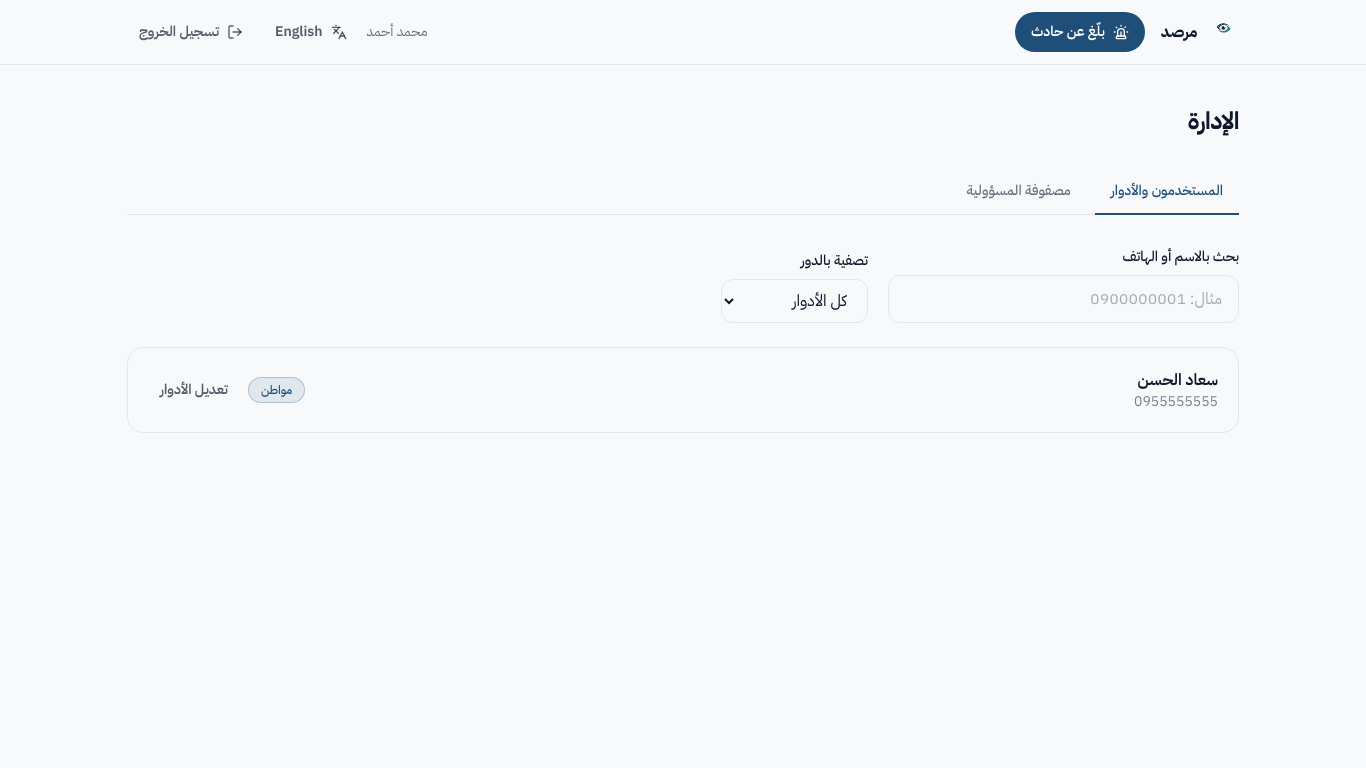
Test: users and roles › hides the super admin checkbox from a plain admin
Step 1. Click the button "تعديل الأدوار" → (194, 390), box [148,372,240,408]
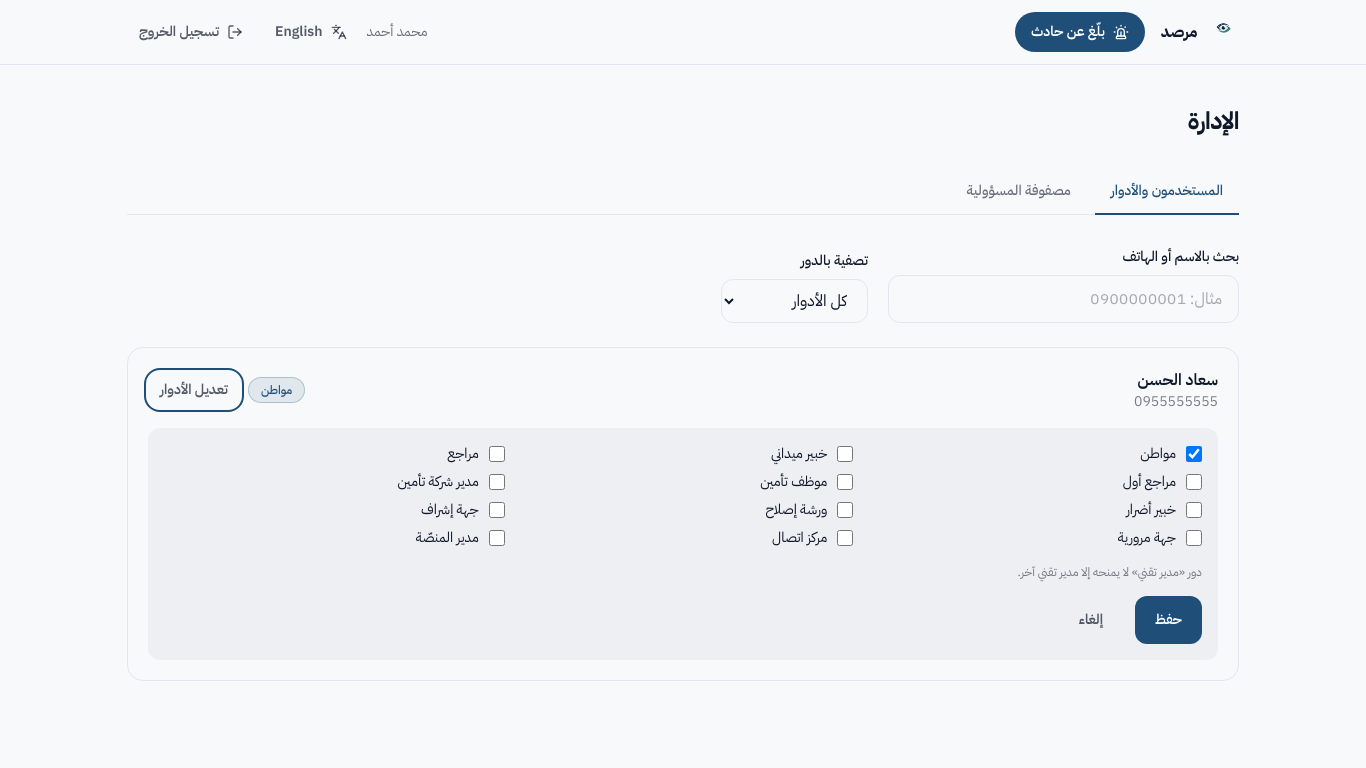
Expected: the text "دور «مدير تقني» لا يمنحه إلا مدير تقني آخر." is shown, [1017,563,1202,581]
